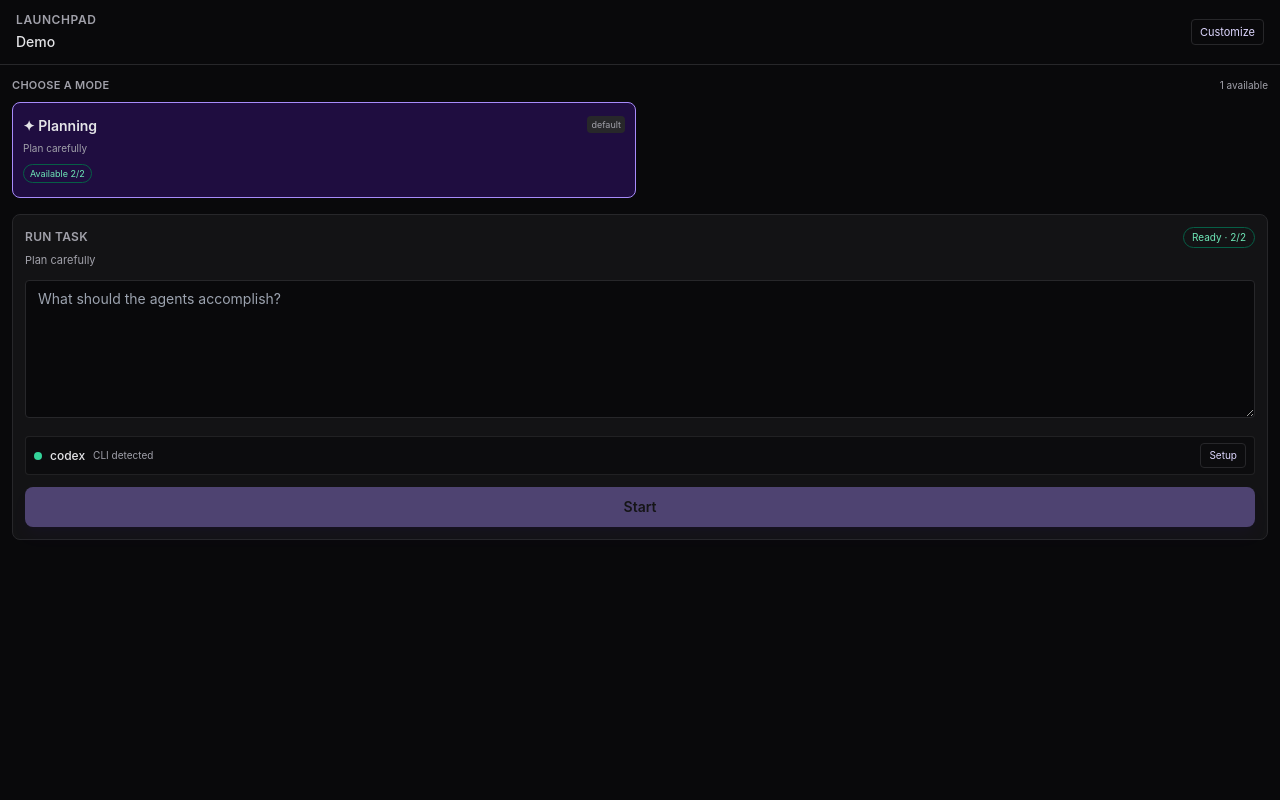
Test: WorkflowPanel › keeps Custom open while a full model id passes through a listed model
Click the button "Customize": (1227, 32) [1191, 19, 1264, 45]
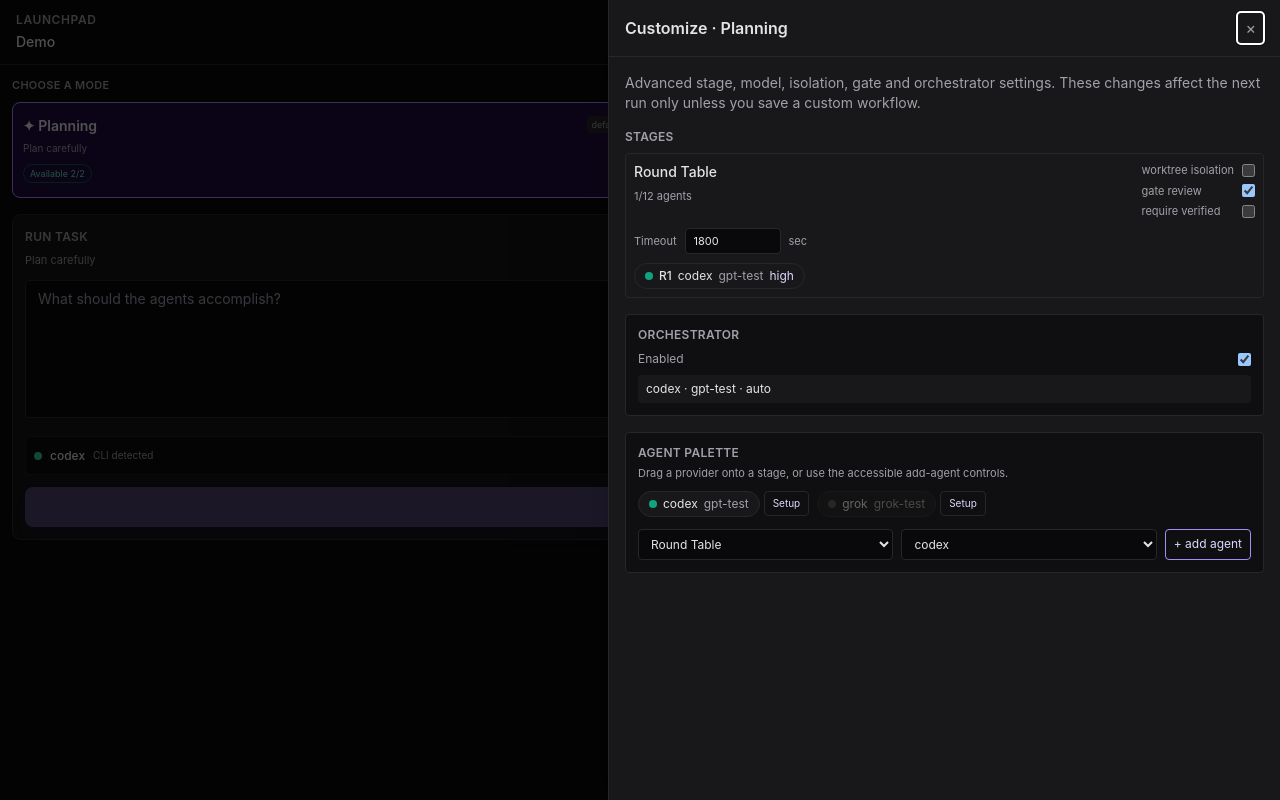
Click the button "R1 codex gpt-test high": (719, 276) [634, 262, 805, 289]
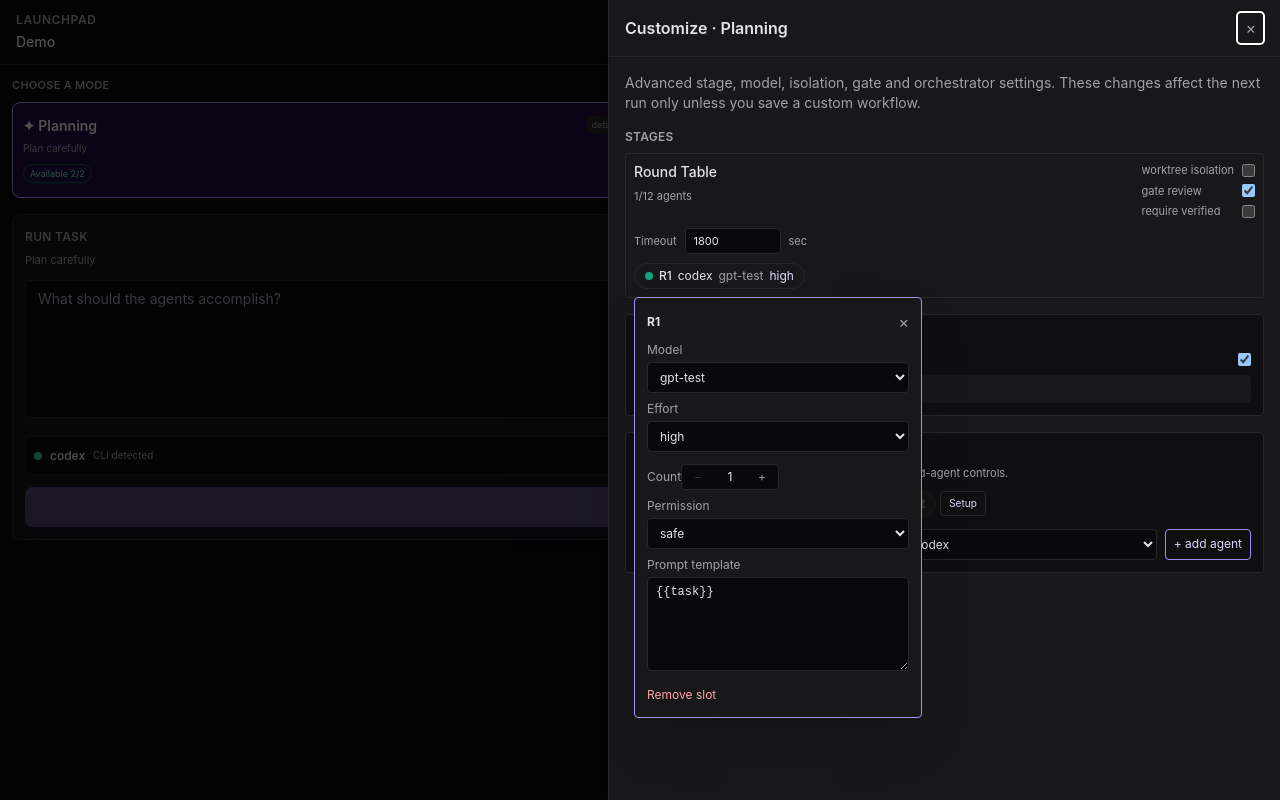
Select "Custom…" in the dropdown labelled "Model": (778, 378) [647, 362, 909, 393]
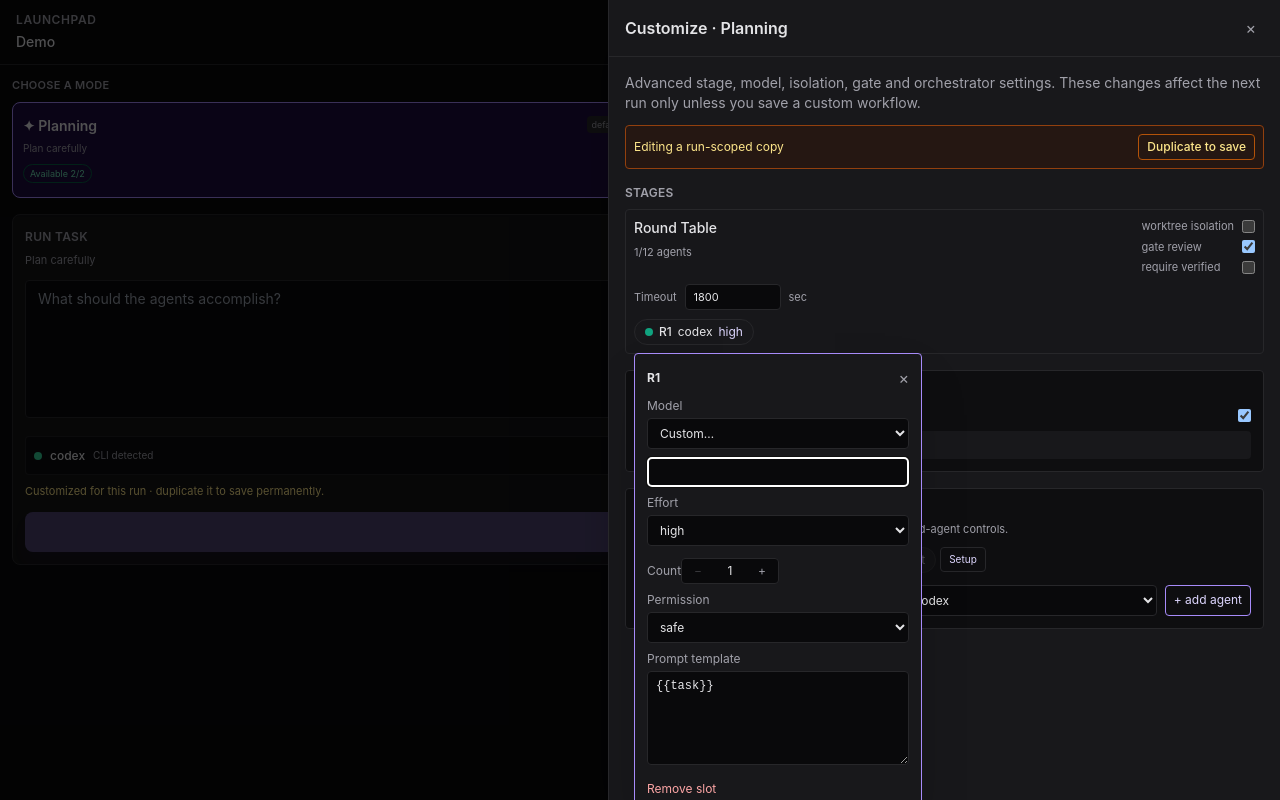
In the field named "Custom model": (778, 472) [647, 457, 909, 487], type "gpt-test"
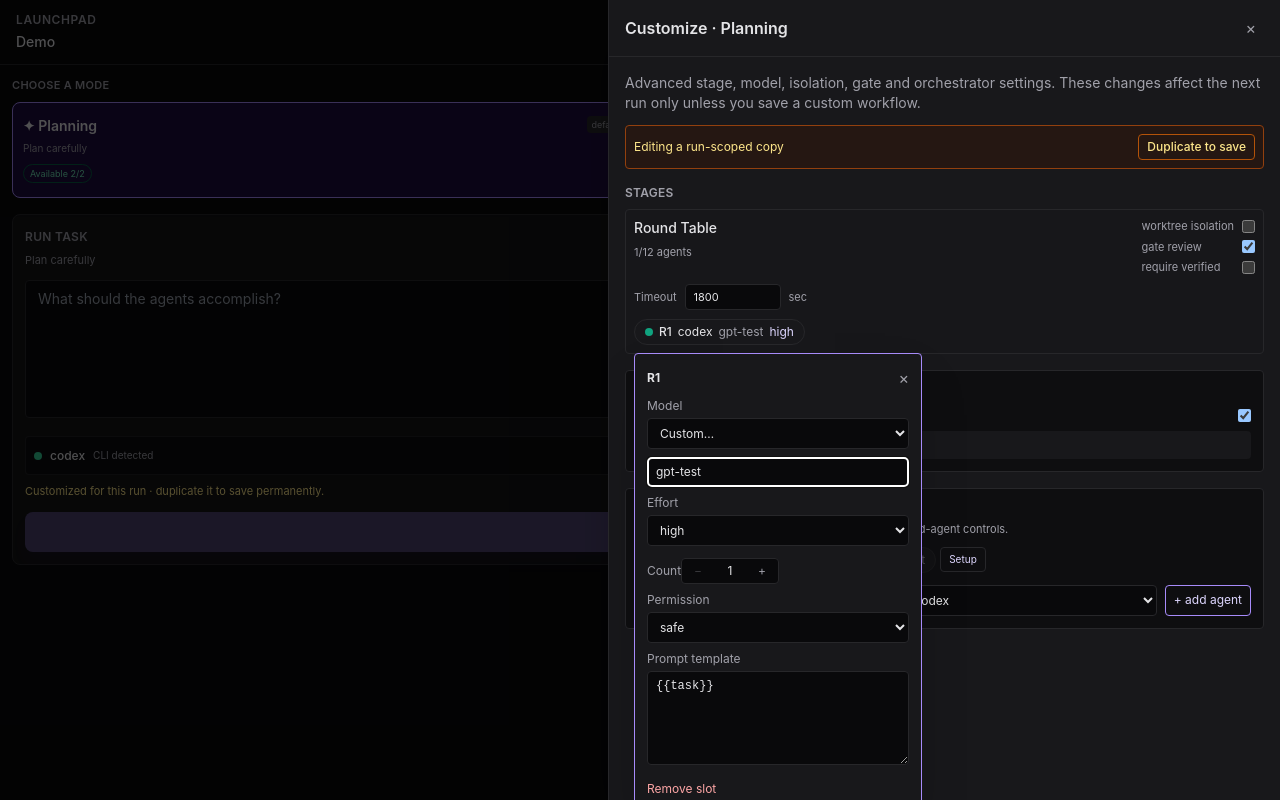
Replace the text in the field named "Custom model" with "gpt-test[1m]": (778, 472) [647, 457, 909, 487]
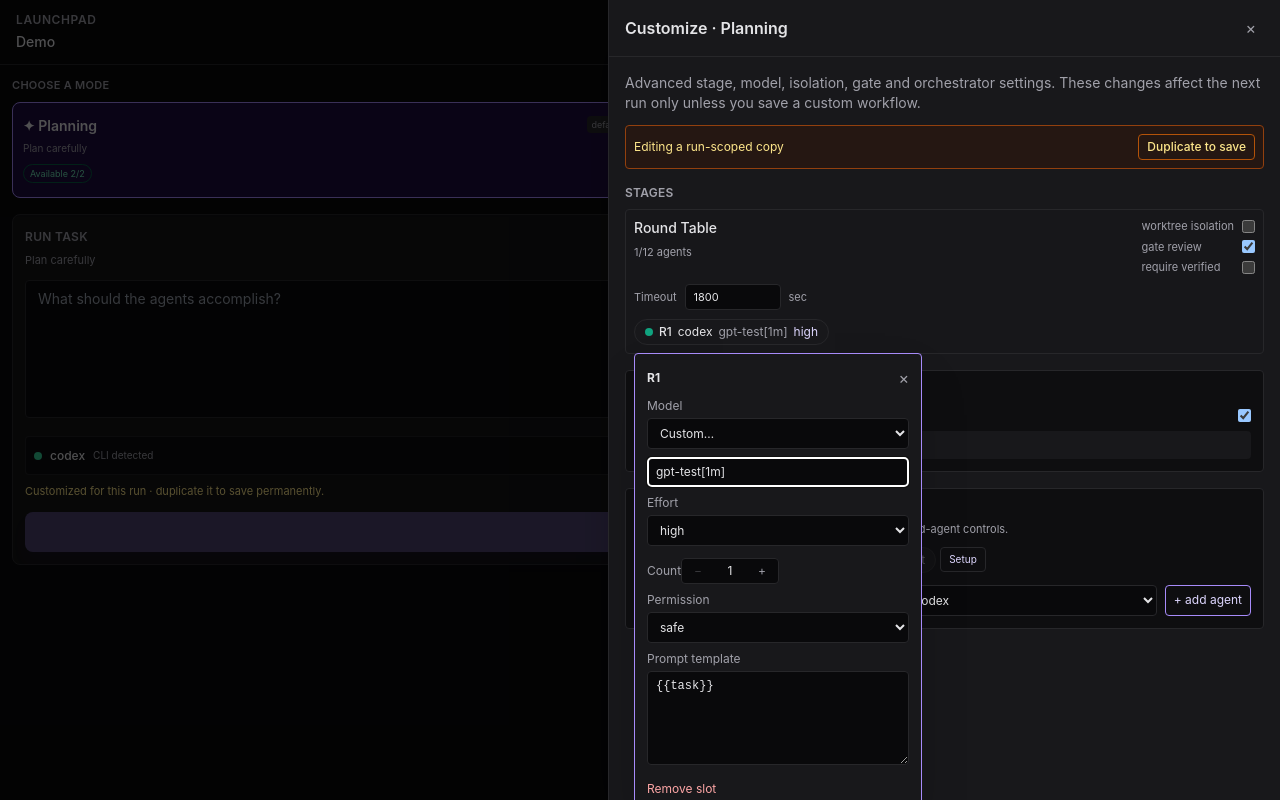
Expected: the text "gpt-test[1m]" is shown, [718, 324, 788, 340]
